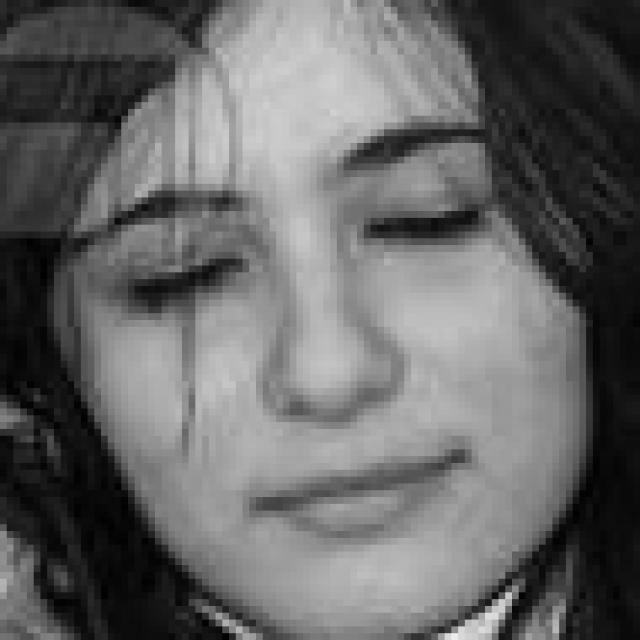real: (56, 5, 596, 610), (118, 180, 526, 322)
